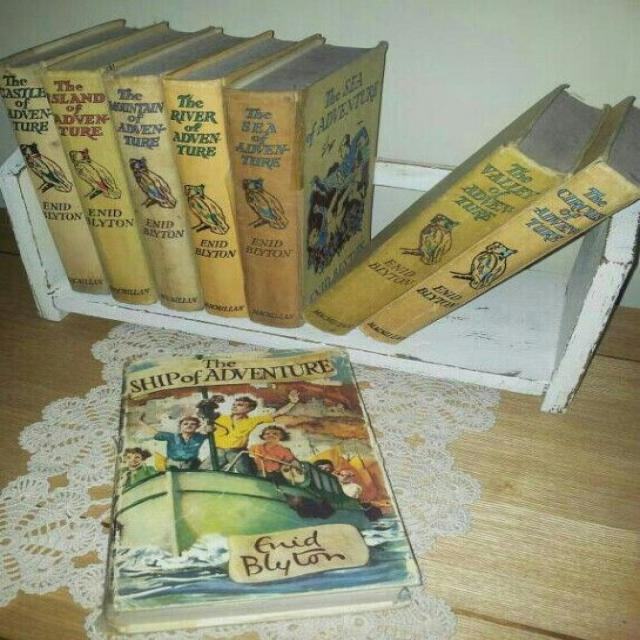book: (360, 161, 640, 344), (301, 147, 567, 336), (41, 72, 154, 303), (0, 67, 110, 296), (105, 76, 203, 310), (162, 79, 247, 317), (224, 88, 297, 324)
